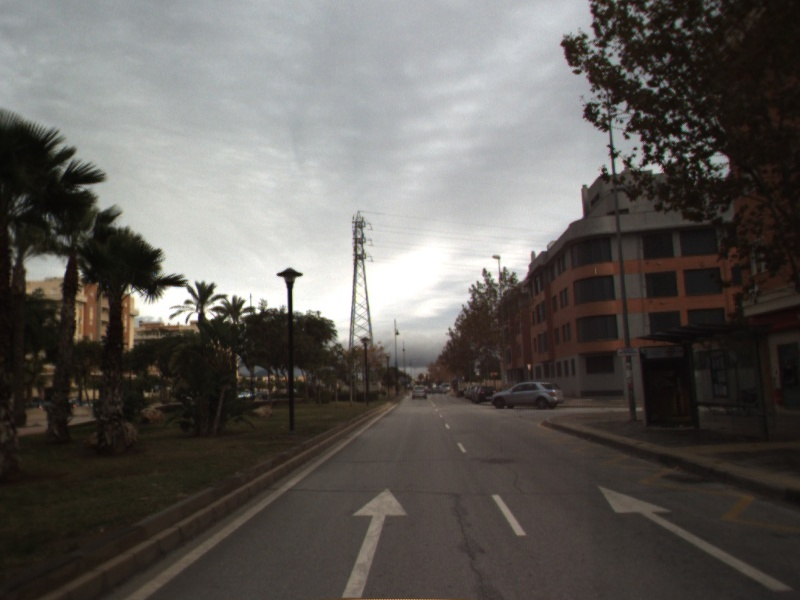STRAIGHT: (596, 483, 798, 593), (340, 485, 411, 599)
